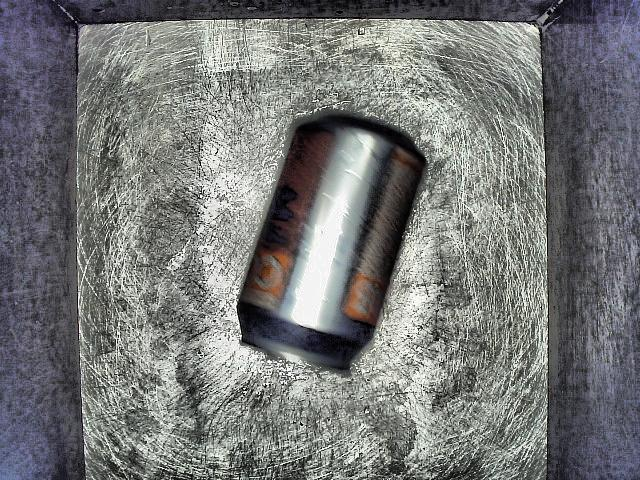Bottles: (217, 97, 441, 397)
